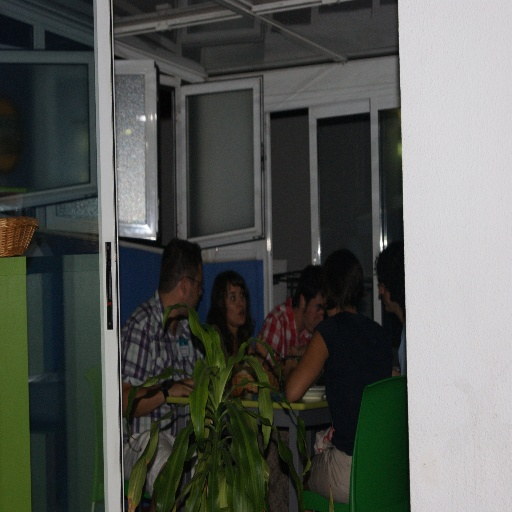hand: (228, 363, 258, 393), (167, 376, 195, 399), (253, 331, 267, 366), (284, 357, 298, 376), (286, 344, 302, 354)
